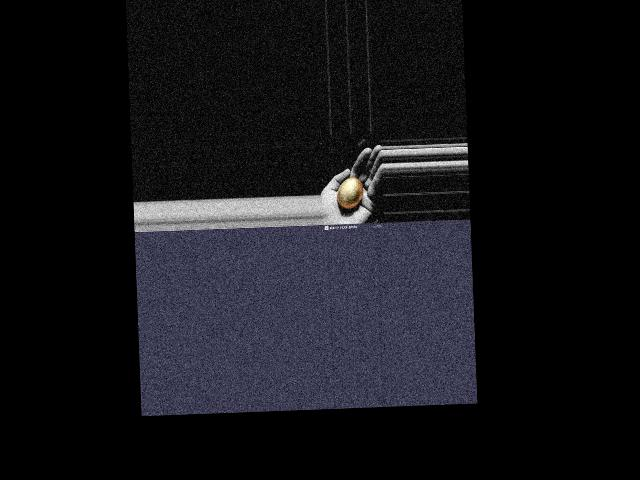egg: (337, 176, 364, 208)
